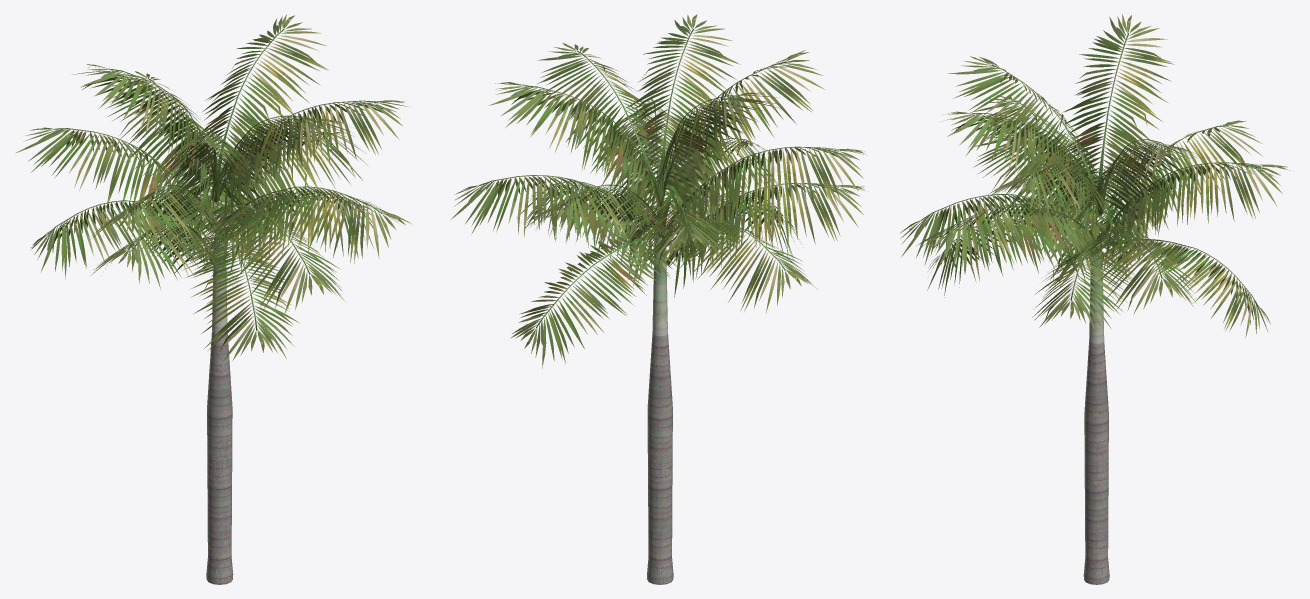
The model's file is Palm Tree.dae.
3 views of the same model, side by side, from view 1: azimuth 30°, elevation 25°; view 2: azimuth 150°, elevation 25°; view 3: azimuth 270°, elevation 25° (orthographic). The views are drawn at different scales.
Parts seen in each view (by area): view 1: group_0 (×2); view 2: group_0 (×2); view 3: group_0 (×2).
Part boxes in pixels (x1=…): group_0 (×2): x1=206, y1=233, x2=233, y2=584; group_0 (×2): x1=647, y1=231, x2=673, y2=584; group_0 (×2): x1=1083, y1=243, x2=1109, y2=584.
Bounding box in the file's own units: 391 × 408 × 578.
